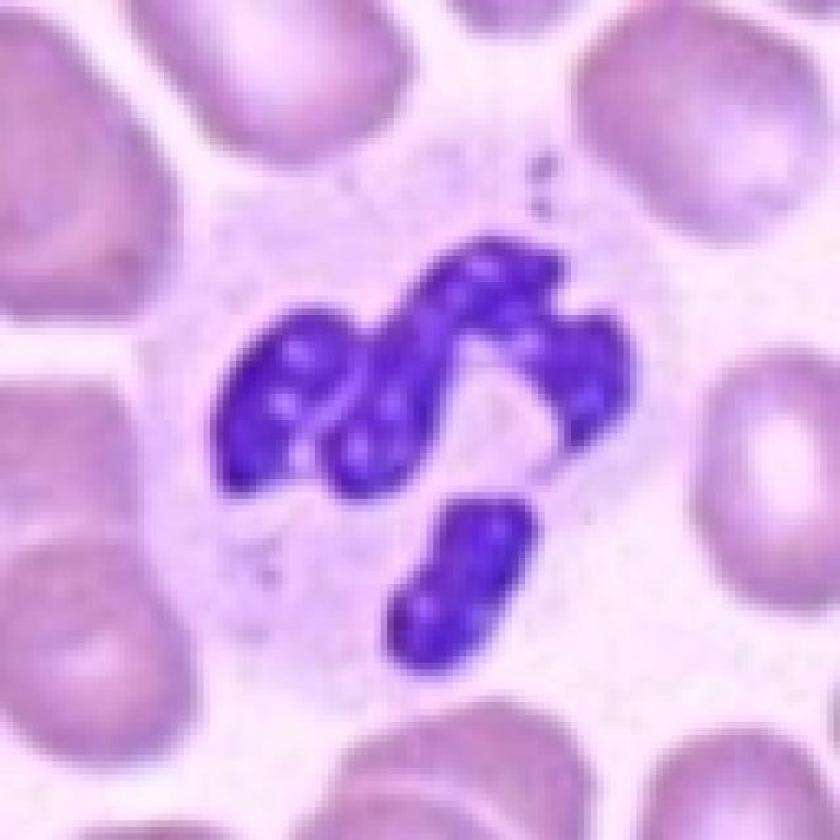neutrophil: (138, 156, 820, 718)
